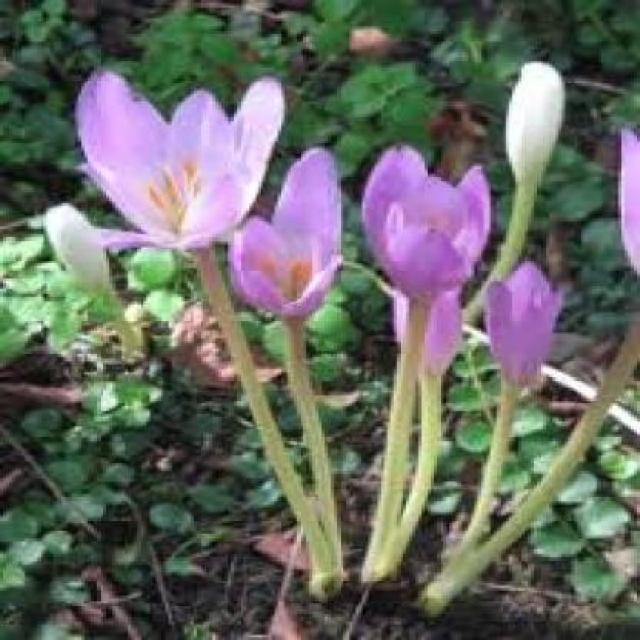Flower: (67, 68, 279, 262), (368, 142, 492, 308), (480, 262, 568, 388)
